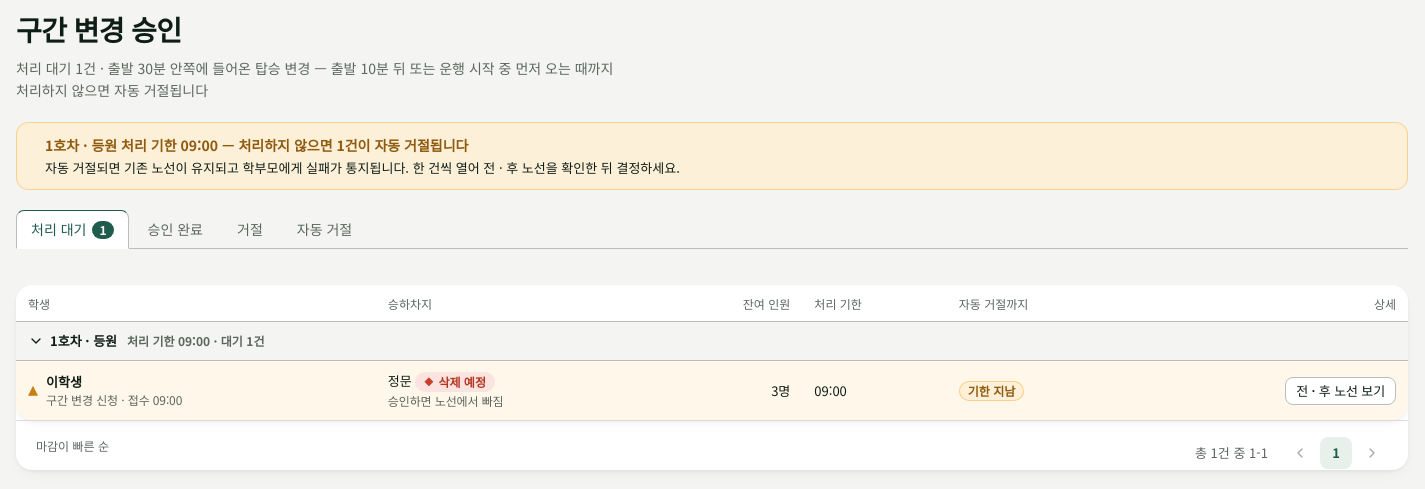
Test case: ChangeApprovalList — 자동 거절까지 남은 시간 › 처리가 끝난 목록(거절·승인)에는 남은 시간 열이 없다
Check: the text "이학생" is shown, box [46,372,82,391]
Click the tab "승인 완료". click: (175, 230)
box: [132,210,218,249]
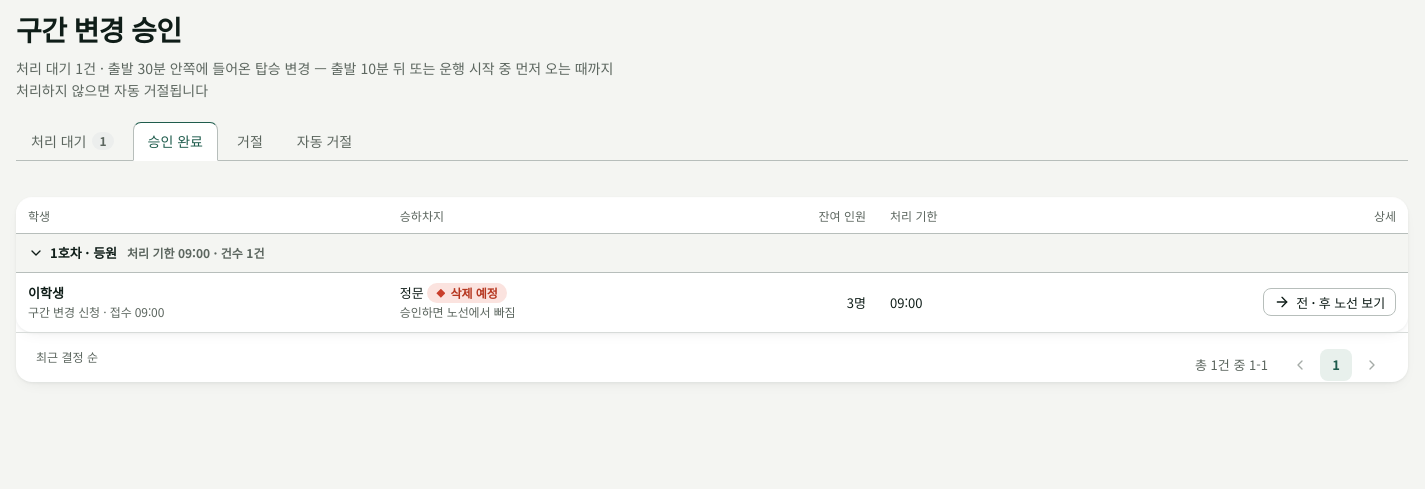
Check: the text "이학생" is shown, box [28,283,64,302]
Check: the column heading "자동 거절까지" is gone
